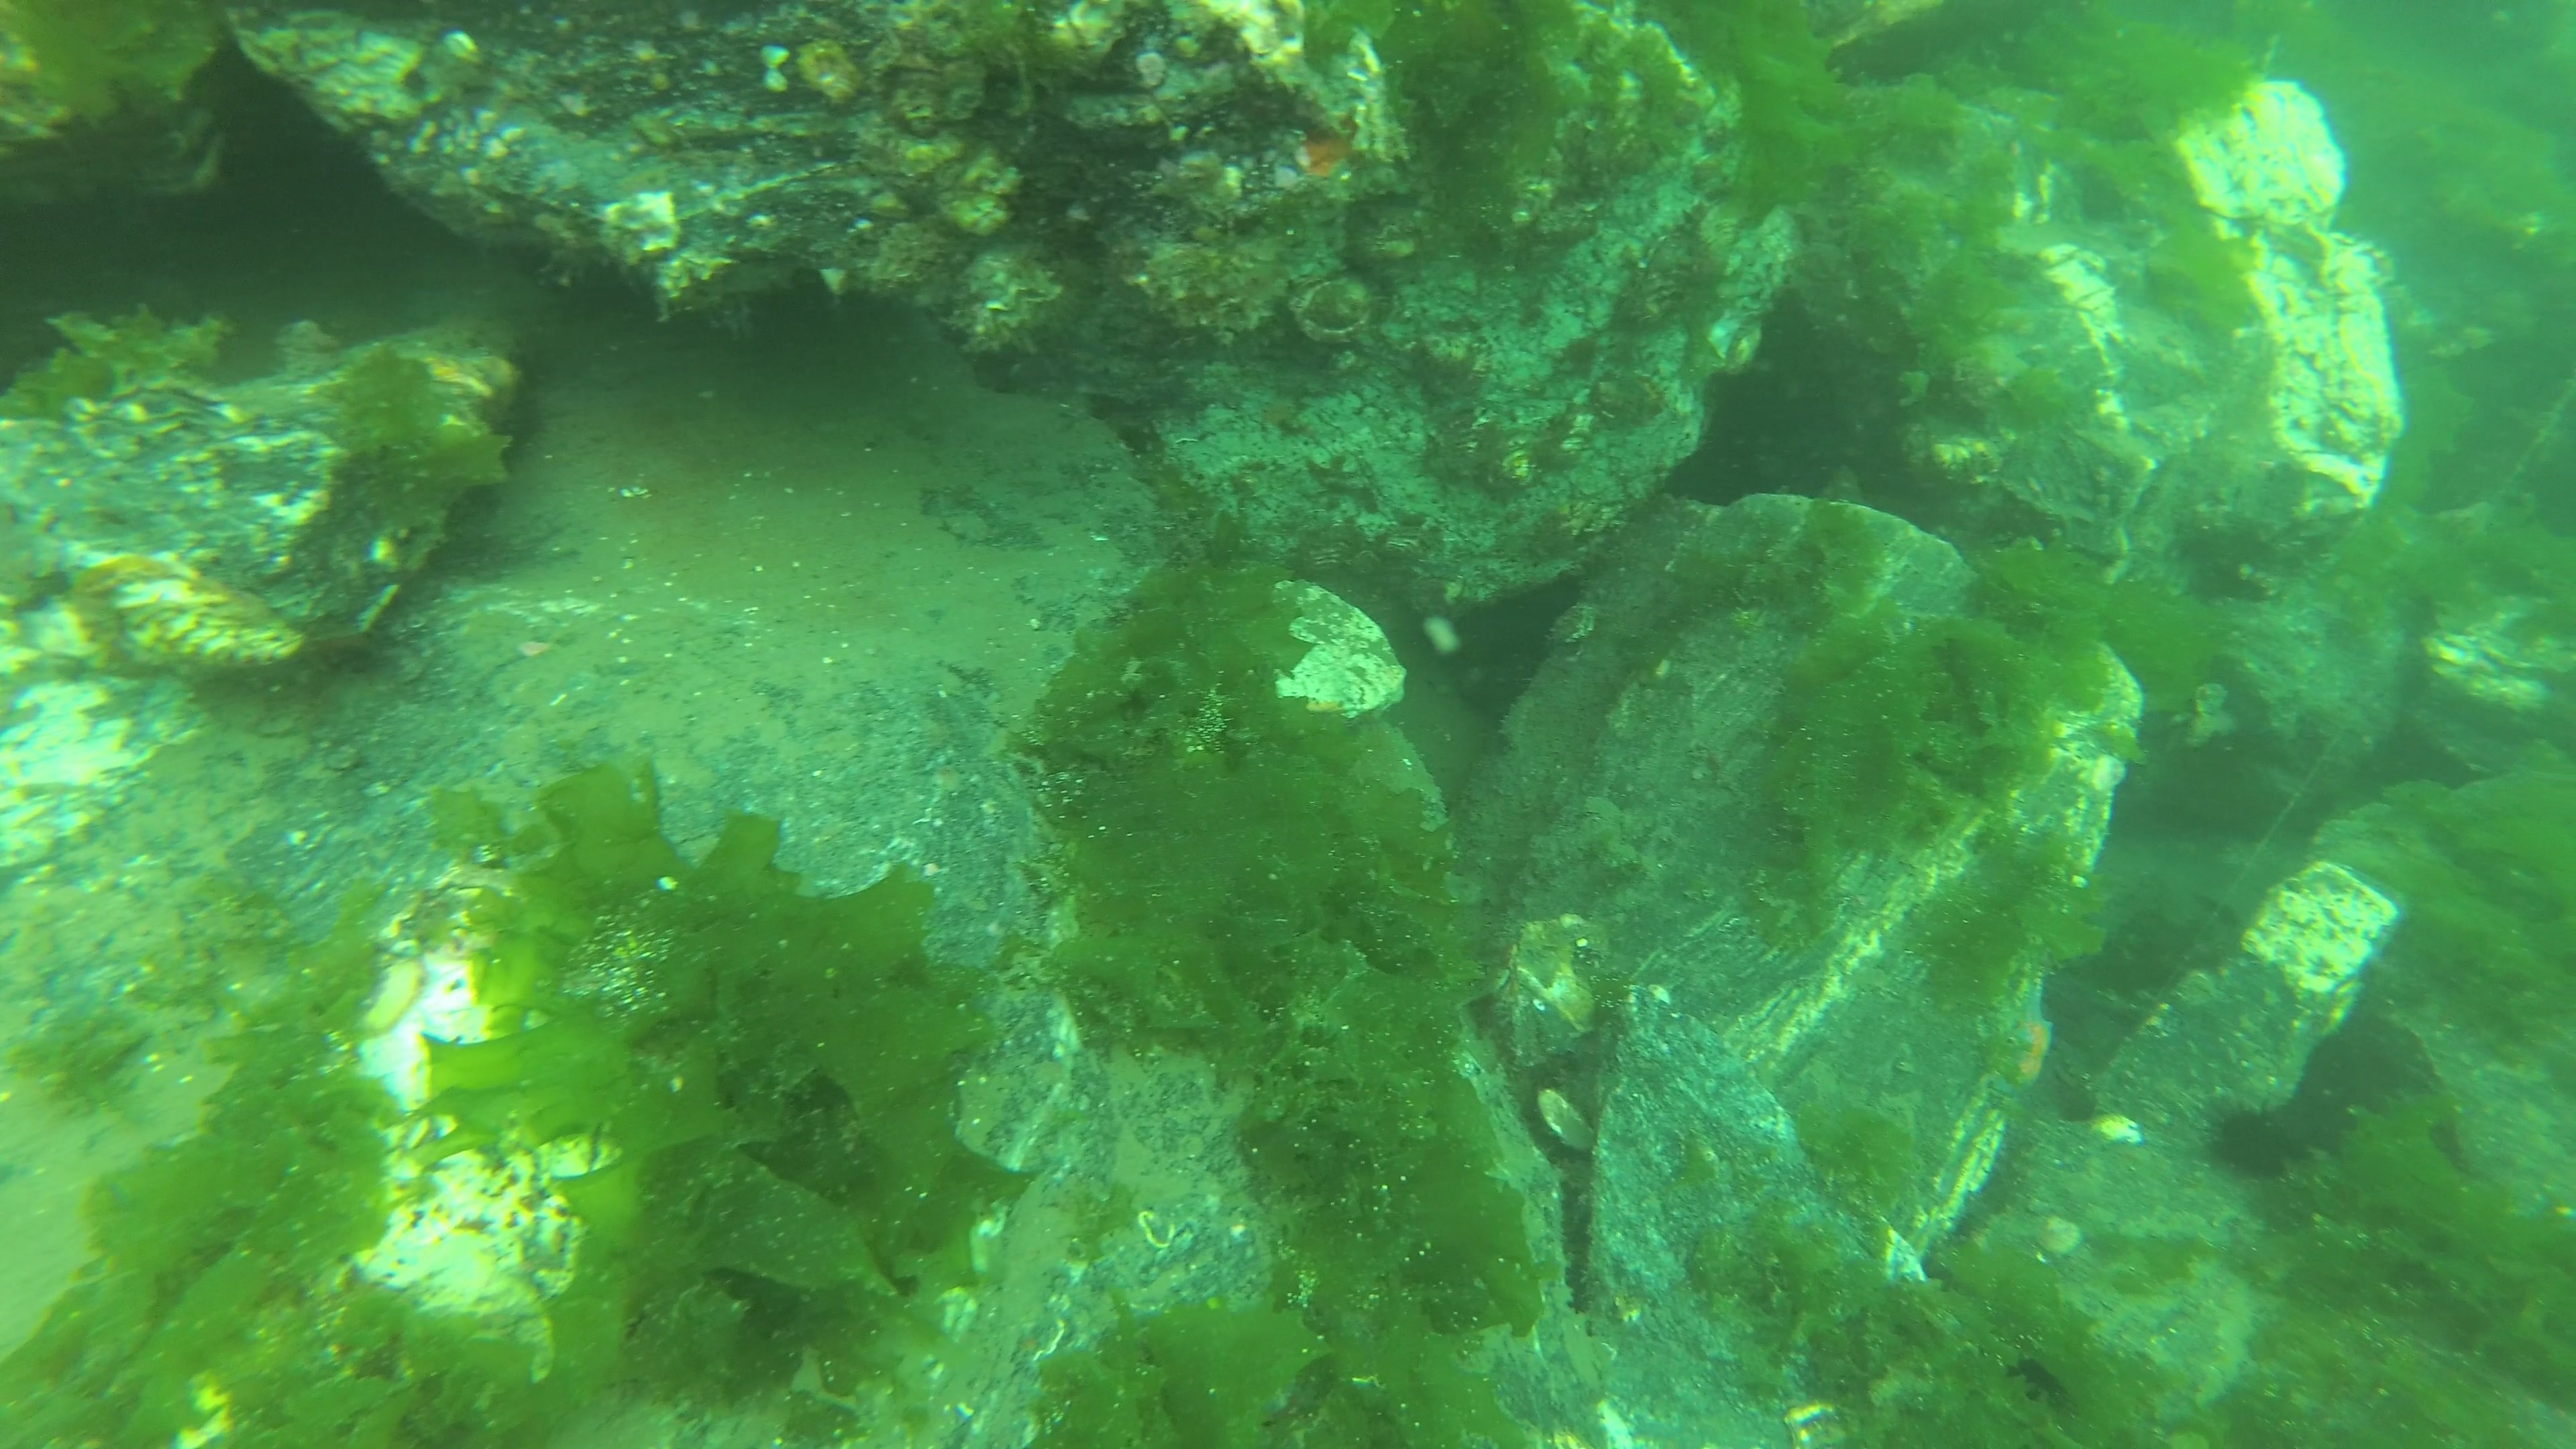echinus: (2210, 1097, 2302, 1184)
starfish: (2013, 978, 2056, 1090)
